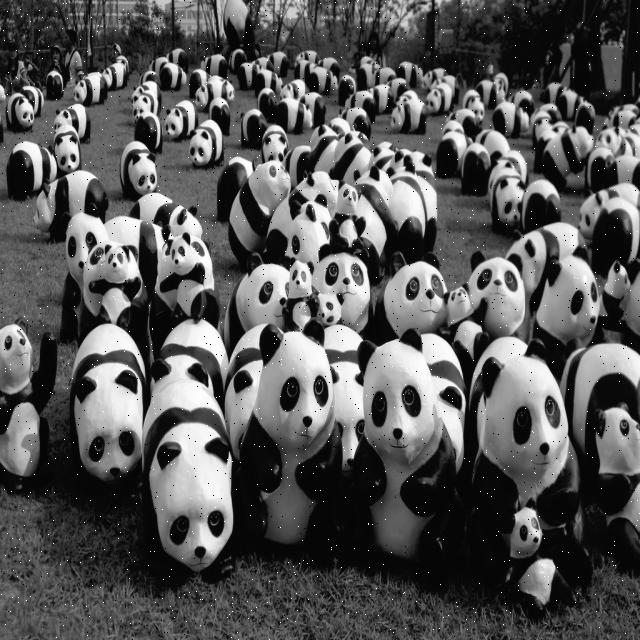panda: (0, 0, 640, 625), (478, 339, 574, 589)
